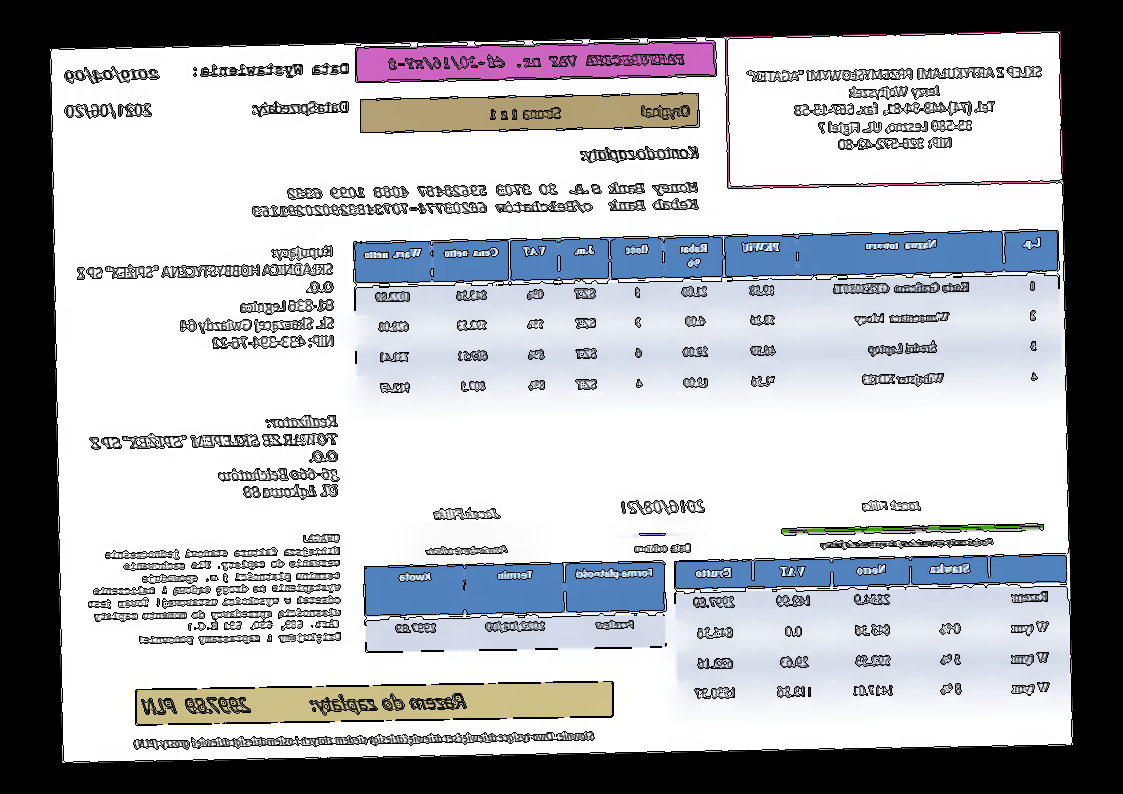Table: (351, 227, 1062, 408), (673, 552, 1071, 714), (362, 558, 668, 653)
TextBox: (71, 241, 338, 357), (84, 530, 345, 648), (744, 61, 1047, 155), (86, 412, 342, 505), (250, 178, 702, 221), (130, 727, 598, 754), (140, 688, 470, 719), (385, 50, 688, 72), (487, 100, 693, 126), (818, 533, 996, 554), (192, 59, 352, 80), (577, 141, 703, 166), (251, 96, 353, 120), (619, 495, 710, 519), (61, 66, 162, 86), (65, 100, 154, 122), (431, 502, 504, 523), (422, 542, 512, 559), (858, 496, 924, 515), (633, 541, 693, 555)
